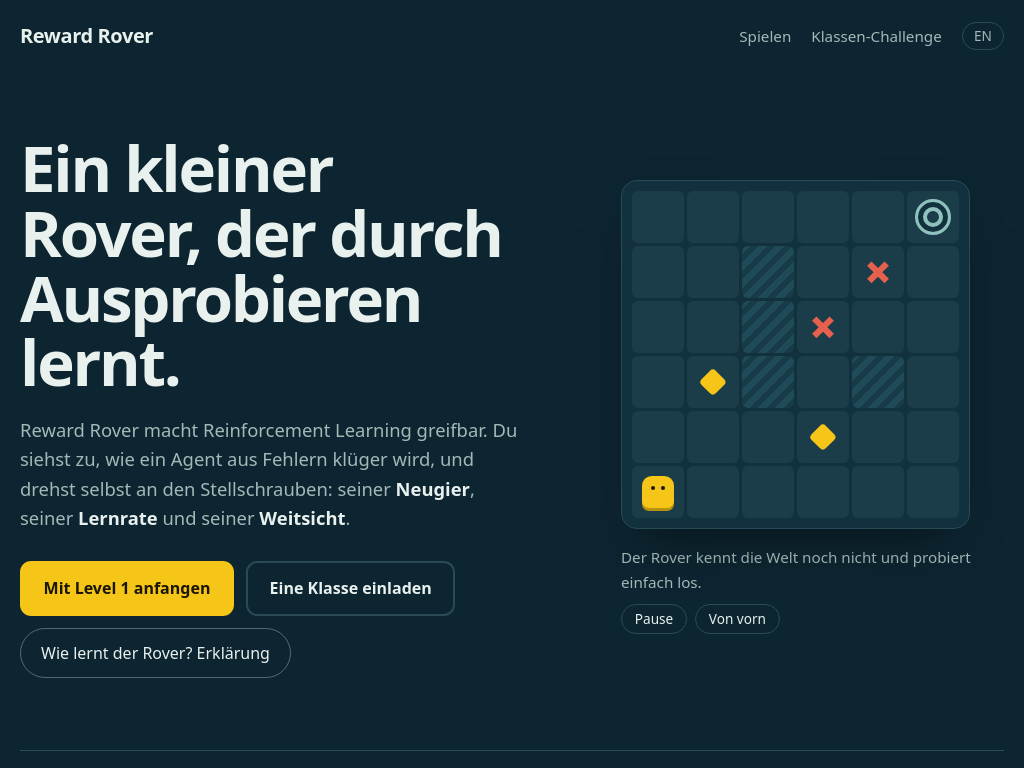
Test case: landing page › switches to English
Click the button with aria-label "Switch to English" at point(983, 36), box top-left (962, 22), bottom-right (1004, 50)
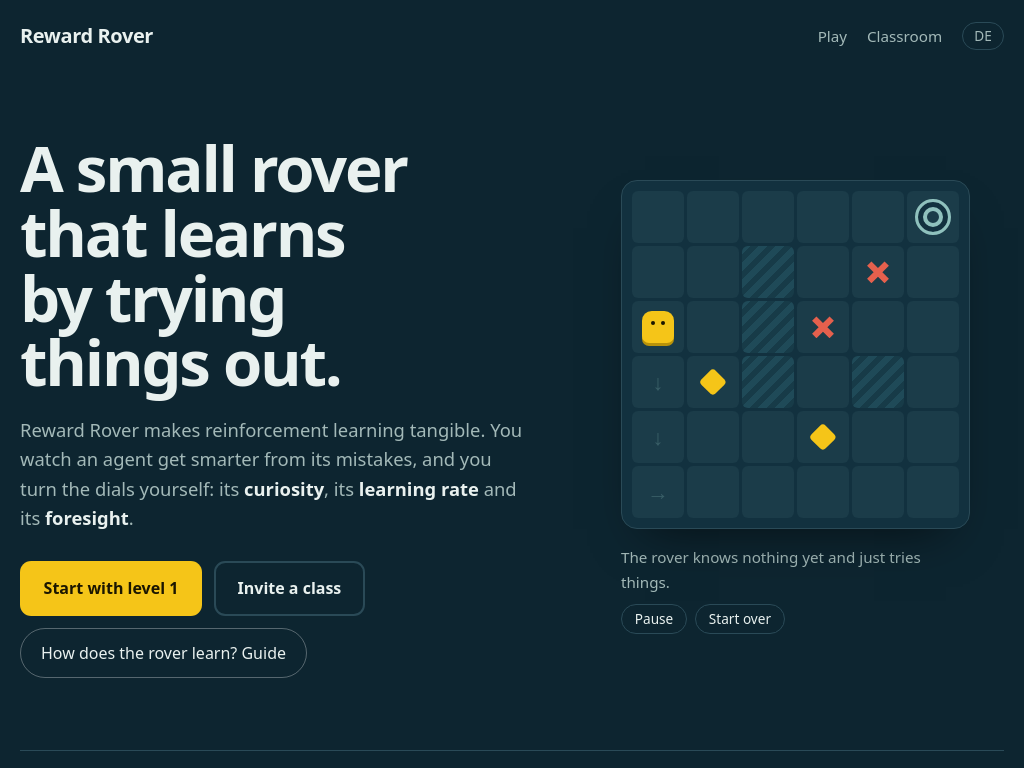
Expected: the heading shows "learns by trying", top-left (20, 124), bottom-right (407, 405)
